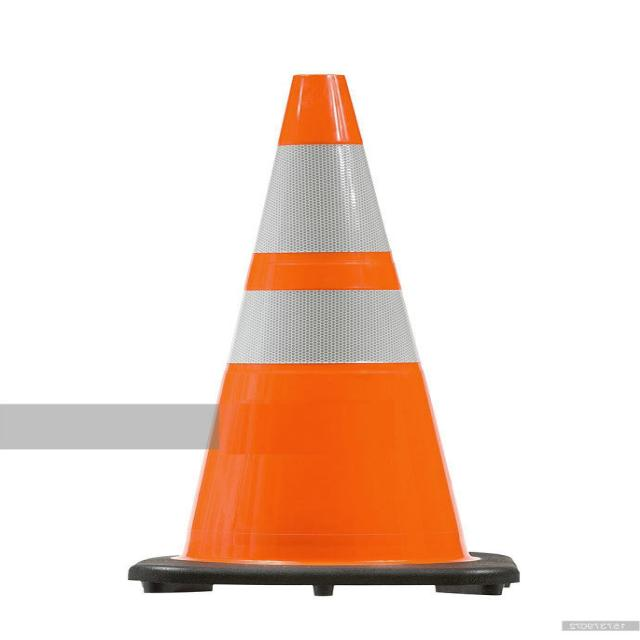cone: (127, 76, 518, 595)
